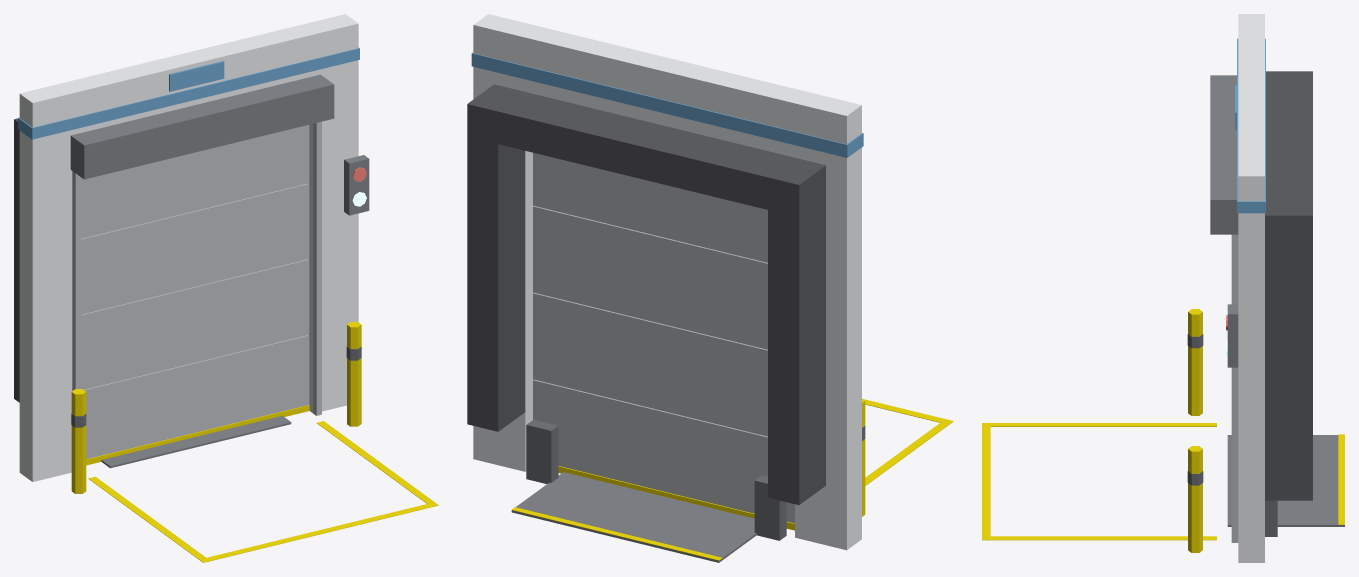
The model's file is doca.glb.
3 views of the same model, side by side, from view 1: azimuth 30°, elevation 25°; view 2: azimuth 150°, elevation 25°; view 3: azimuth 270°, elevation 25° (orthographic). The views are drawn at different scales.
Parts seen in each view (by area): view 1: parede, porta; view 2: parede, porta; view 3: parede.
Boxes of the visible parts, bbox=[...] form: parede: bbox=[14, 14, 438, 562]; porta: bbox=[81, 125, 309, 465]; parede: bbox=[467, 14, 953, 562]; porta: bbox=[533, 152, 794, 530]; parede: bbox=[982, 14, 1344, 562].
Size of the model in its own units: 3.67 by 4 by 3.4.
